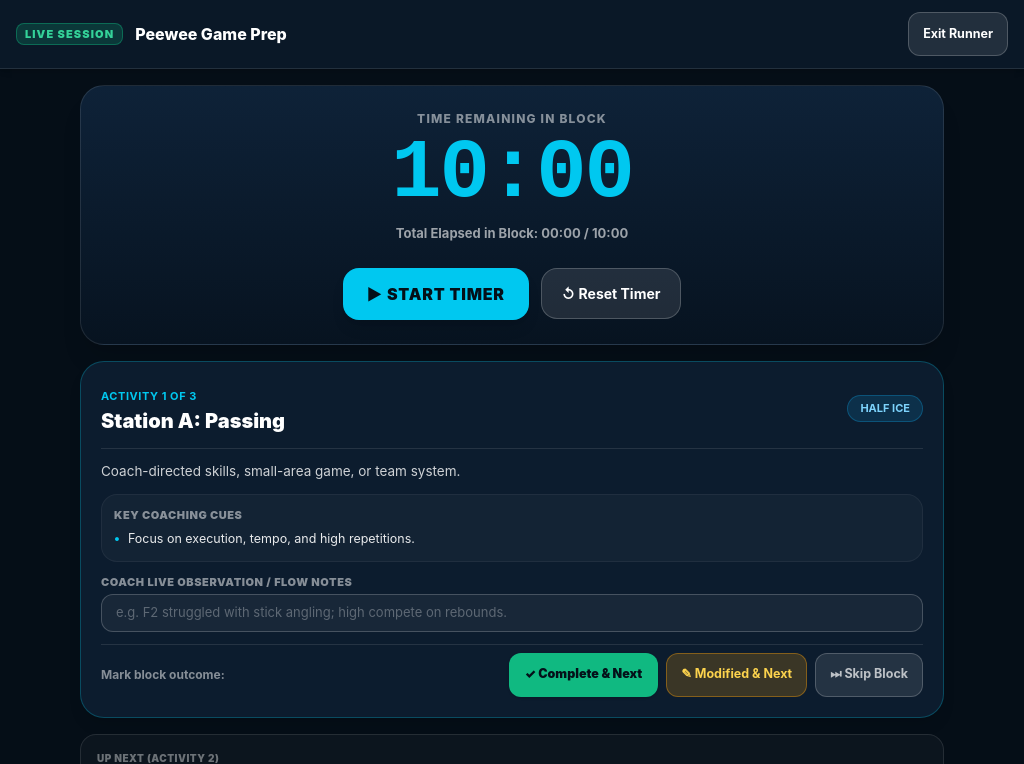
Test: PracticeRunner › explicitly advances on Complete Block without duplicate completion
Click the button "✓ Complete & Next" at (584, 675), box [509, 653, 658, 697]
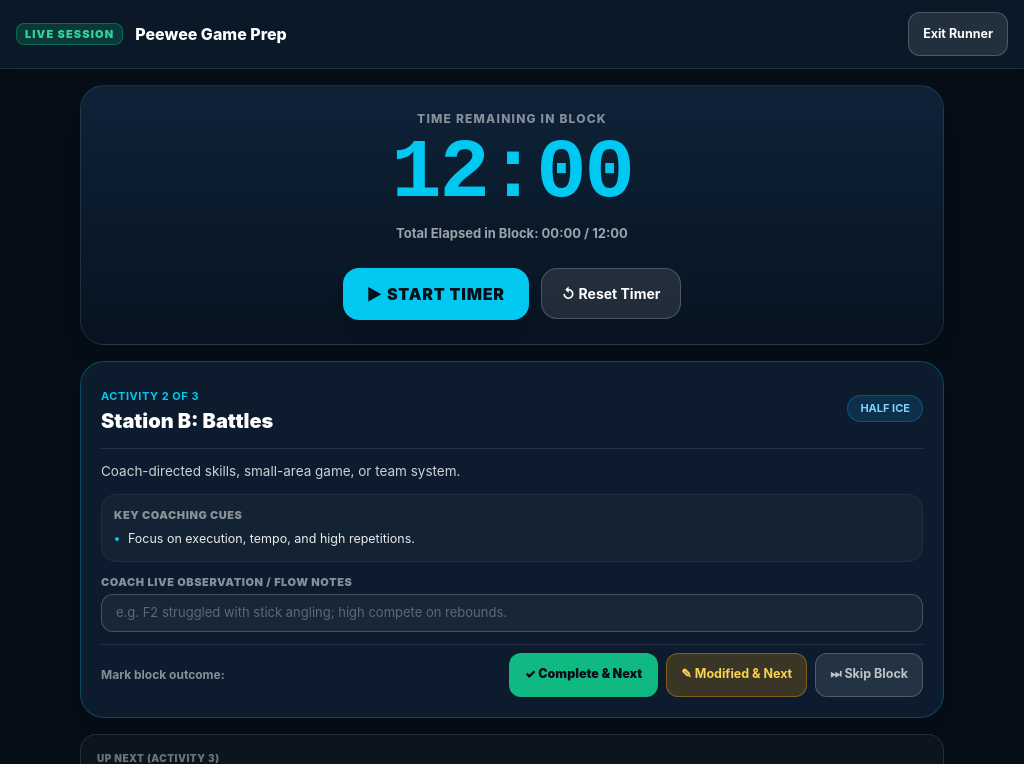
Expected: the heading "Station B: Battles" is shown, [101, 406, 273, 436]
